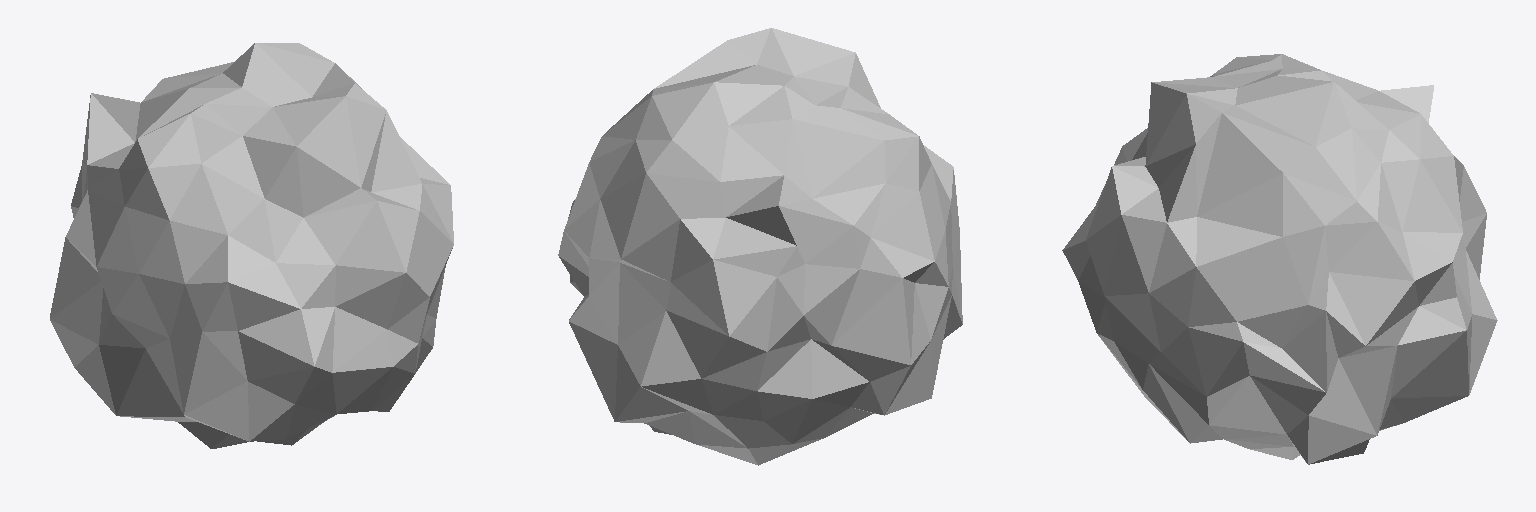
Rendered from fire_000009.obj.
3 renders of one model, left to right at view 1: azimuth 30°, elevation 25°; view 2: azimuth 150°, elevation 25°; view 3: azimuth 270°, elevation 25°, orthographic.
Parts seen in each view (by area): view 1: Icosphere; view 2: Icosphere; view 3: Icosphere.
Part boxes in pixels (x1,y1,x2,y2): Icosphere: (50,43,453,448); Icosphere: (558,28,962,465); Icosphere: (1062,54,1497,464).
Bounding box in the file's own units: 1.53 × 1.56 × 1.65.